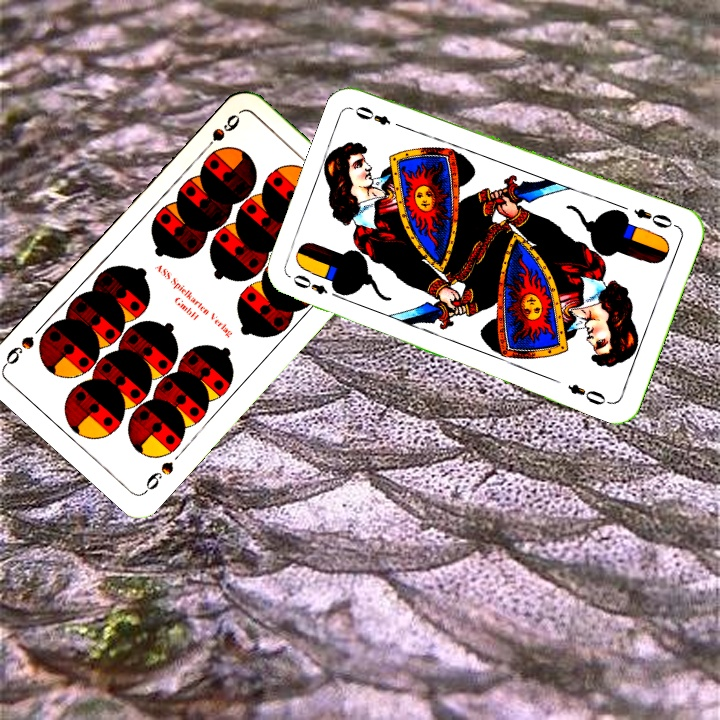EO: (288, 270, 344, 302), (629, 204, 680, 231)
S9: (198, 110, 243, 156), (140, 457, 176, 496)
